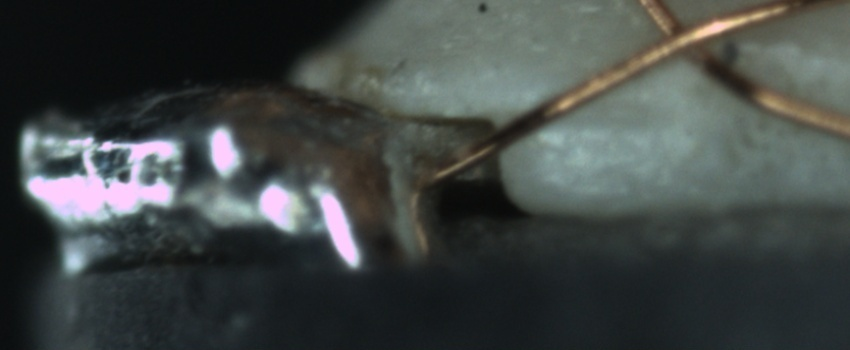CL: (632, 8, 726, 78)
DL: (530, 99, 681, 152)
